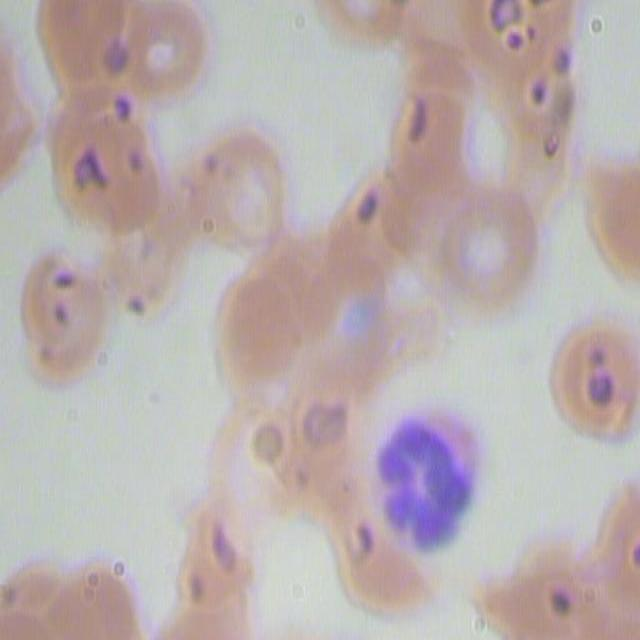RBC: (413, 31, 562, 216), (190, 378, 308, 558), (168, 105, 302, 260), (296, 207, 405, 384), (430, 186, 544, 318), (9, 236, 104, 386), (542, 307, 638, 441), (570, 467, 640, 637), (212, 237, 302, 366), (27, 0, 138, 104), (108, 0, 212, 104), (495, 531, 592, 640), (486, 41, 580, 144), (167, 541, 260, 640), (586, 142, 640, 285), (54, 552, 129, 640), (0, 553, 74, 640), (313, 0, 422, 51)
WBC: (371, 392, 486, 562)
